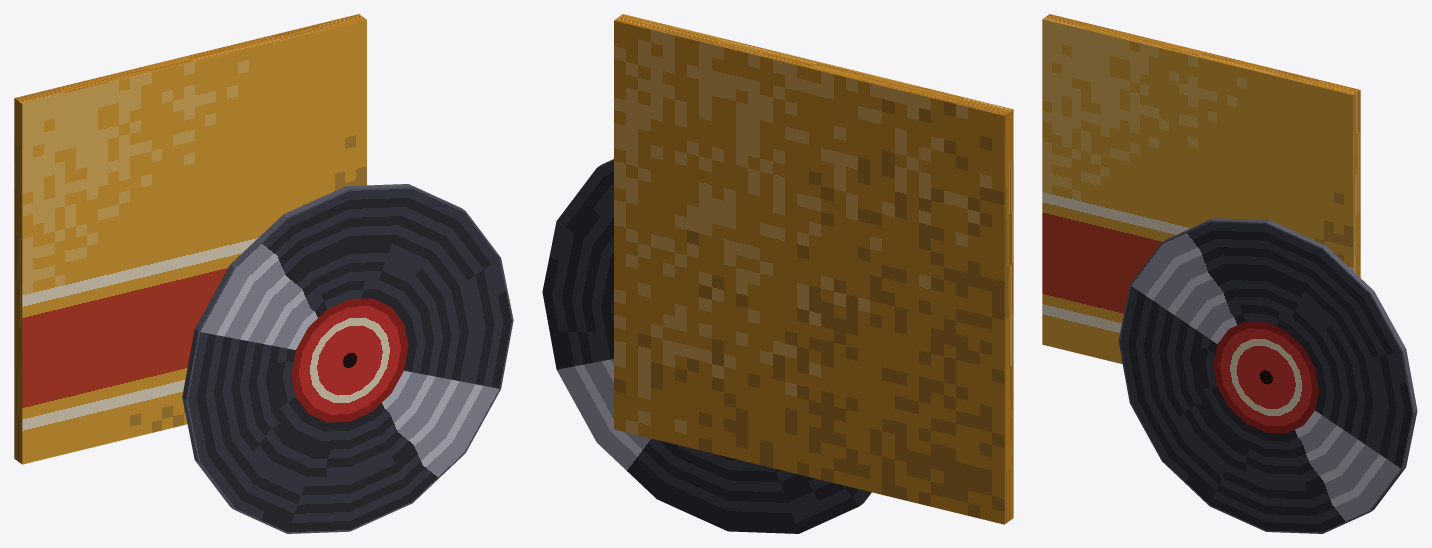
The model's file is moreB-vinylRecord.glb.
The picture shows the model from 3 angles, left to right: view 1: azimuth 30°, elevation 25°; view 2: azimuth 150°, elevation 25°; view 3: azimuth 330°, elevation 25°; orthographic projection. The views are drawn at different scales.
Parts seen in each view (by area): view 1: moreB.vinylRecord; view 2: moreB.vinylRecord; view 3: moreB.vinylRecord.
Part boxes in pixels (x1,y1,x2,y2): moreB.vinylRecord: (14, 14, 513, 533); moreB.vinylRecord: (542, 14, 1013, 533); moreB.vinylRecord: (1042, 14, 1417, 533).
Size of the model in its own units: 1.41 by 1.4 by 0.2579.
Materials: 4 (4 with a texture image).
